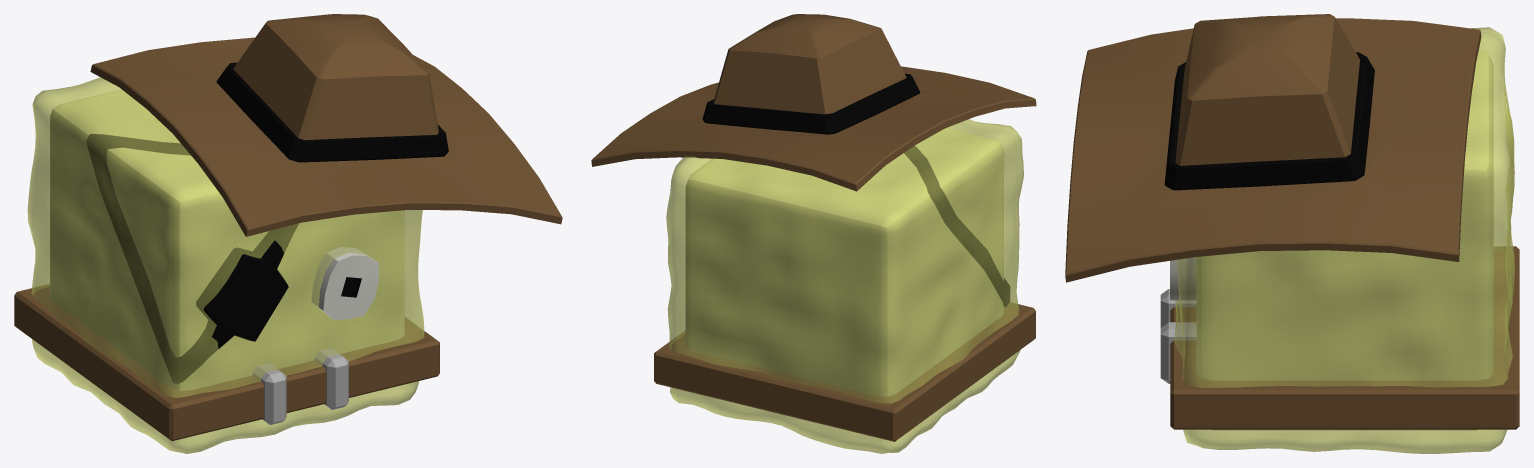
The model's file is Explorer_v2.fbx.
3 views of the same model, side by side, from view 1: azimuth 30°, elevation 25°; view 2: azimuth 150°, elevation 25°; view 3: azimuth 270°, elevation 25° (orthographic). The views are drawn at different scales.
Parts seen in each view (by area): view 1: Jello, Hat, Cubo, Belt, Patch, Eyes, Buckle_2, Buckle_1; view 2: Jello, Cubo, Hat, Belt, Patch; view 3: Hat, Jello, Cubo, Belt, Eyes, Buckle_2, Buckle_1.
Part boxes in pixels (x1,y1,x2,y2): Jello: (27, 77, 424, 453); Hat: (90, 14, 562, 236); Cubo: (50, 89, 404, 390); Belt: (14, 284, 439, 441); Patch: (86, 134, 299, 383); Eyes: (311, 247, 378, 320); Buckle_2: (314, 348, 348, 409); Buckle_1: (252, 363, 286, 424); Jello: (666, 119, 1023, 453); Cubo: (685, 128, 1003, 396); Hat: (591, 14, 1036, 191); Belt: (654, 302, 1035, 441); Patch: (904, 145, 1010, 306); Hat: (1065, 14, 1481, 282); Jello: (1175, 27, 1514, 453); Cubo: (1196, 49, 1493, 430); Belt: (1170, 246, 1519, 429); Eyes: (1170, 257, 1196, 300); Buckle_2: (1160, 322, 1196, 383); Buckle_1: (1160, 289, 1196, 327).
Bounding box in the file's own units: 11.83 × 11.32 × 11.48.
